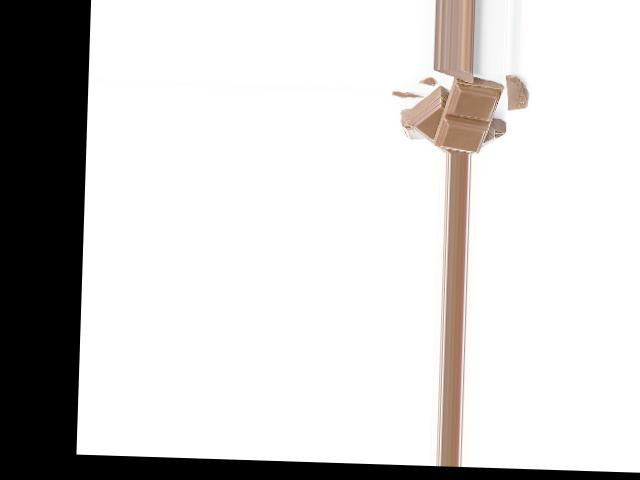chocolate: (432, 78, 501, 150)
